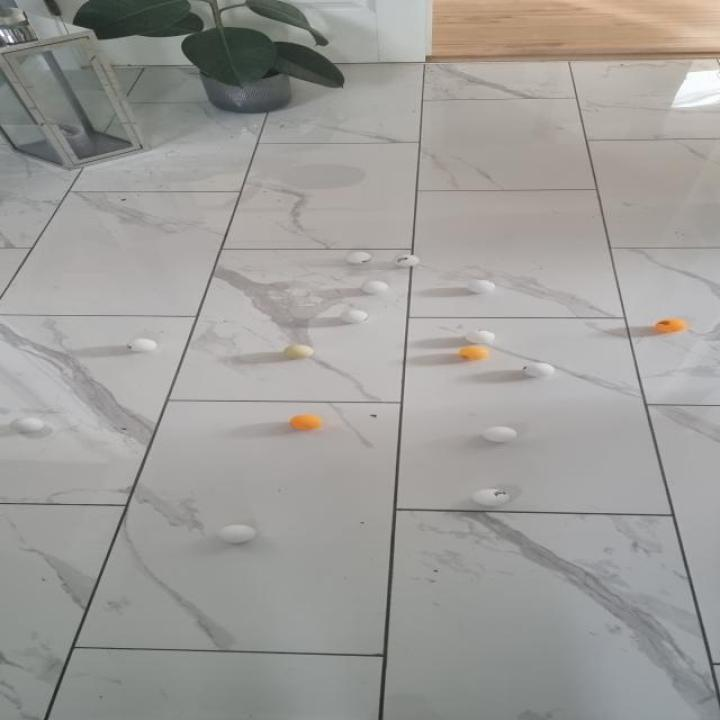orange: (458, 344, 492, 360), (654, 318, 688, 334), (290, 415, 323, 430)
white: (218, 524, 257, 544), (472, 488, 511, 506), (482, 426, 519, 442), (11, 416, 45, 433), (523, 362, 556, 377), (126, 338, 158, 352), (465, 330, 496, 344), (340, 309, 370, 323), (284, 344, 313, 358), (346, 251, 374, 265), (466, 280, 496, 293), (391, 254, 421, 267), (360, 281, 389, 293)
